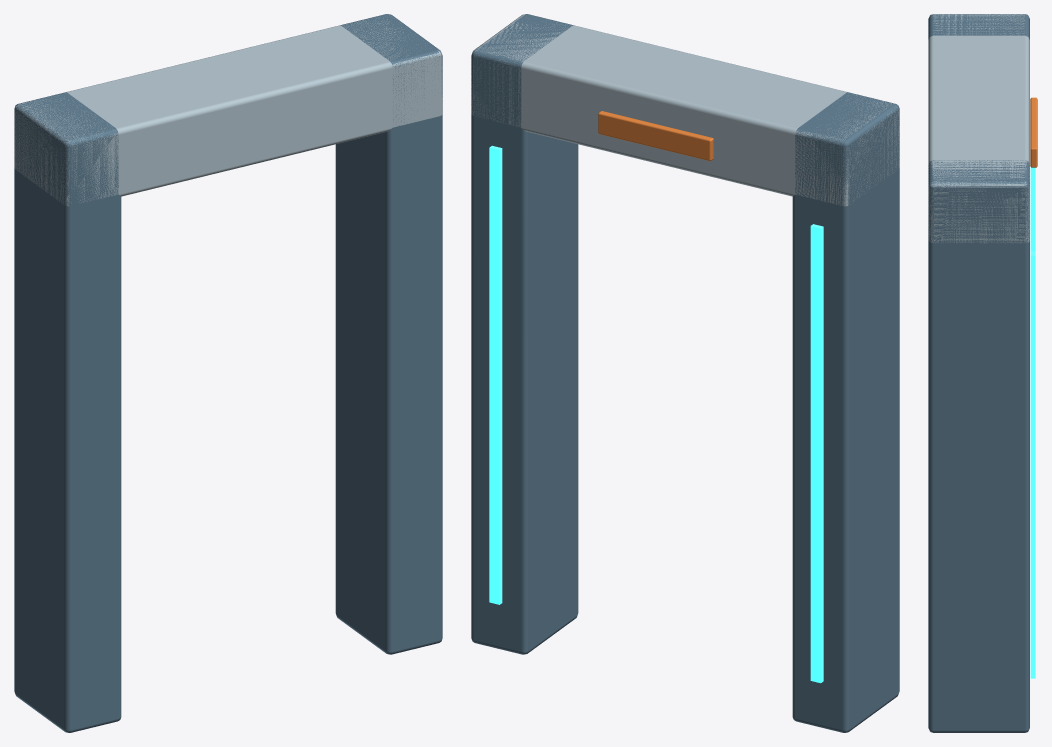
The model's file is door-frame.glb.
3 renders of one model, left to right at view 1: azimuth 30°, elevation 25°; view 2: azimuth 150°, elevation 25°; view 3: azimuth 270°, elevation 25°, orthographic. The views are drawn at different scales.
Parts seen in each view (by area): view 1: jamb--0.85, jamb-0.85, lintel; view 2: jamb--0.85, jamb-0.85, lintel, light-0.85, light--0.85, header; view 3: jamb-0.85, lintel, light-0.85, jamb--0.85, header, light--0.85.
Part boxes in pixels (box(x1,y1,x2,y2)): jamb--0.85: box(14, 92, 121, 732); jamb-0.85: box(335, 14, 442, 654); lintel: box(14, 16, 442, 206); jamb--0.85: box(792, 92, 899, 732); jamb-0.85: box(471, 14, 578, 654); lintel: box(471, 14, 899, 206); light-0.85: box(489, 145, 502, 604); light--0.85: box(810, 224, 823, 683); header: box(598, 111, 713, 160); jamb-0.85: box(928, 160, 1029, 732); lintel: box(928, 14, 1029, 243); light-0.85: box(1030, 251, 1035, 678); jamb--0.85: box(928, 14, 1029, 39); header: box(1030, 97, 1037, 167); light--0.85: box(1030, 167, 1035, 250).
Size of the model in its own units: 2 by 3 by 0.5375.
